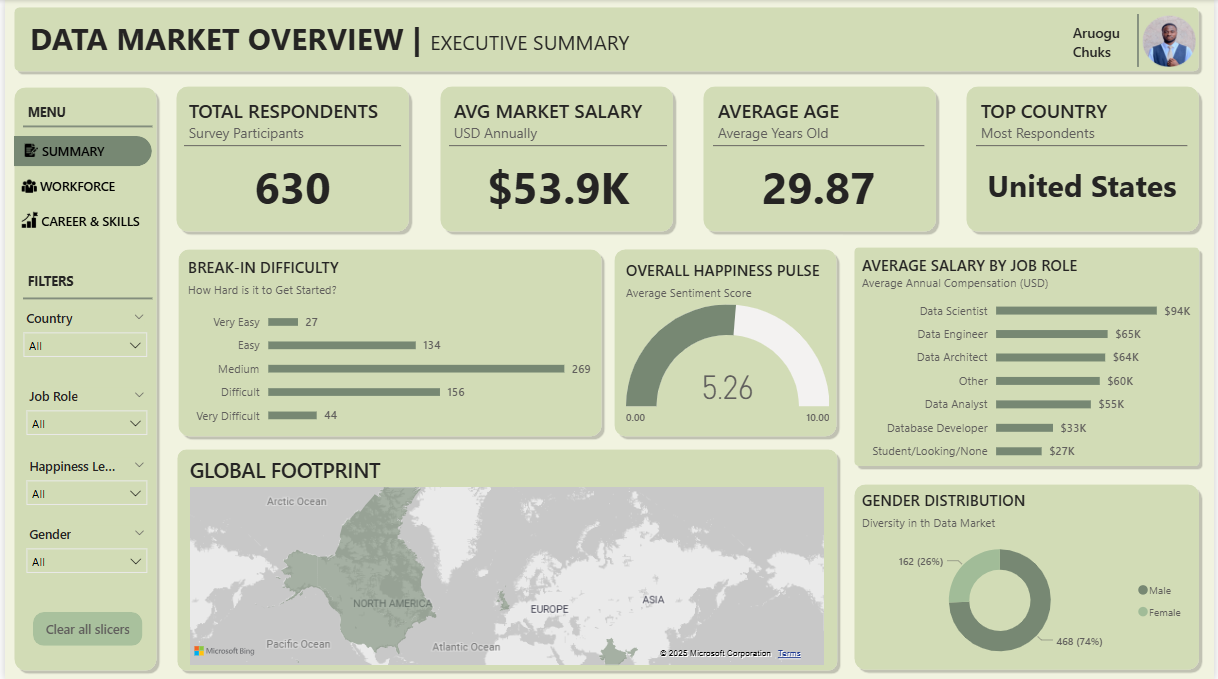

The dashboard page shown, as its layout file describes it:
{"tool":"powerbi","page":{"name":"EXECUTIVE SUMMARY","canvas":[1280,720],"ordinal":0},"visuals":[{"type":"image","box":[12.4,219.3,27.4,27.4],"z":0,"group":"g1"},{"type":"shape","box":[176.4,470,710,245.5],"z":0},{"type":"image","box":[12.7,182.2,25.8,28.4],"z":1000,"group":"g1"},{"type":"shape","box":[640,257.9,246.4,209.3],"z":1000},{"type":"image","box":[15.6,147.4,24.2,24.5],"z":2000,"group":"g1"},{"type":"shape","box":[893.8,507.5,376.2,207.5],"z":2000},{"type":"shape","box":[177.9,257.9,459.3,209.3],"z":3000},{"type":"shape","box":[4.7,86.5,161.8,628.8],"z":4000},{"type":"shape","box":[4.7,2.4,1265.3,78.8],"z":5000},{"type":"shape","box":[176.2,86.2,257.5,165],"z":6000},{"type":"shape","box":[455,86.2,257.5,165],"z":7000},{"type":"shape","box":[733.8,86.2,257.5,165],"z":8000},{"type":"shape","box":[1012.5,86.2,257.5,165],"z":9000},{"type":"textbox","box":[12.4,12.4,998.8,61.2],"z":10000},{"type":"textbox","box":[18.8,105,131.2,32.5],"z":11000},{"type":"shape","box":[18.9,117.4,137.4,32.6],"z":12000},{"type":"shape","box":[1186.2,15,27.5,56.2],"z":13000},{"type":"textbox","box":[18.8,284.2,131.1,32.1],"z":14000},{"type":"shape","box":[18.9,300,137.4,32.6],"z":15000},{"type":"textbox","box":[1125.9,19.3,71.9,53.9],"z":16000},{"type":"actionButton","box":[29.2,647.5,115.8,35.8],"z":17000},{"type":"card","title":"TOTAL RESPONDENTS","fields":{"Values":["Count(Data Professional Survey.Unique ID)"]},"box":[190,102.5,230,136.2],"z":18000},{"type":"card","title":"AVG MARKET SALARY","fields":{"Values":["Avg(Data Professional Survey.Average Salary ($))"]},"box":[470,102.5,231.2,136.2],"z":19000},{"type":"card","title":"AVERAGE AGE","fields":{"Values":["Avg(Data Professional Survey.Q10 - Current Age)"]},"box":[750,102.5,223.8,136.2],"z":20000},{"type":"card","title":"TOP COUNTRY","fields":{"Values":["Data Professional Survey.Top Country Name"]},"box":[1028.4,102.2,224.1,136.2],"z":21000},{"type":"slicer","fields":{"Values":["Data Professional Survey.Q11 - Which Country do you live in?"]},"box":[9.9,323,150.5,61.5],"z":22000},{"type":"slicer","fields":{"Values":["Data Professional Survey.Q1 - Which Title Best Fits your Current Role?"]},"box":[12.4,405.6,147.6,74.4],"z":23000},{"type":"slicer","fields":{"Values":["Happiness Table.Happiness_Levels"]},"box":[12.4,480,147.6,62],"z":24000},{"type":"shape","box":[10,144,146,32],"z":25000},{"type":"actionButton","box":[29,147,87,24],"z":26000},{"type":"actionButton","box":[31.8,184.5,90,23.6],"z":27000},{"type":"actionButton","box":[29.4,221.2,121.8,24.1],"z":28000},{"type":"shape","box":[893.6,255.7,376.4,242.9],"z":29000},{"type":"barChart","title":"AVERAGE SALARY BY JOB ROLE","fields":{"Y":["Avg(Data Professional Survey.Average Salary ($))"],"Category":["Data Professional Survey.Q1 - Which Title Best Fits your Current Role?"]},"box":[907.1,264.3,355.7,230],"z":30000},{"type":"barChart","title":"BREAK-IN DIFFICULTY","fields":{"Category":["Data Professional Survey.Q7 - How difficult was it for you to break into Data?"],"Y":["CountNonNull(Data Professional Survey.Q7 - How difficult was it for you to break into Data?)"]},"box":[194.3,269.3,427.1,187.9],"z":31000},{"type":"donutChart","title":"GENDER DISTRIBUTION","fields":{"Category":["Data Professional Survey.Q9 - Male/Female?"],"Y":["CountNonNull(Data Professional Survey.Q9 - Male/Female?)"]},"box":[907.8,519.1,346.9,188.6],"z":32000},{"type":"gauge","title":"OVERALL HAPPINESS PULSE","fields":{"Y":["Avg(Happiness Table.Score)"]},"box":[657.3,275.5,215.5,181.8],"z":33000},{"type":"filledMap","title":"GLOBAL FOOTPRINT","fields":{"Category":["Data Professional Survey.Q11 - Which Country do you live in?"]},"box":[190.1,482.3,682.3,226.3],"z":34000},{"type":"group","id":"g1","title":"Group 1","box":[12.4,147.4,27.4,99.4],"z":35000},{"type":"image","box":[1200,10.6,65.6,65],"z":36000},{"type":"slicer","fields":{"Values":["Data Professional Survey.Q9 - Male/Female?"]},"box":[12.9,552.1,147.9,66.4],"z":37000}]}

Visuals, with their boxes in screenshot pixels (x1, y1, x2, y2), scaled from the page's 1280x720 canvas onto the 1218x679 screenshot:
image: 12, 207, 38, 233
shape: 168, 443, 843, 675
image: 12, 172, 37, 199
shape: 609, 243, 843, 441
image: 15, 139, 38, 162
shape: 851, 479, 1208, 674
shape: 169, 243, 606, 441
shape: 4, 82, 158, 675
shape: 4, 2, 1208, 77
shape: 168, 81, 413, 237
shape: 433, 81, 678, 237
shape: 698, 81, 943, 237
shape: 963, 81, 1208, 237
textbox: 12, 12, 962, 69
textbox: 18, 99, 143, 130
shape: 18, 111, 149, 141
shape: 1129, 14, 1155, 67
textbox: 18, 268, 143, 298
shape: 18, 283, 149, 314
textbox: 1071, 18, 1140, 69
actionButton: 28, 611, 138, 644
"TOTAL RESPONDENTS" card: 181, 97, 400, 225
"AVG MARKET SALARY" card: 447, 97, 667, 225
"AVERAGE AGE" card: 714, 97, 927, 225
"TOP COUNTRY" card: 979, 96, 1192, 225
slicer - Data Professional Survey.Q11 - Which Country do you live in?: 9, 305, 153, 363
slicer - Data Professional Survey.Q1 - Which Title Best Fits your Current Role?: 12, 383, 152, 453
slicer - Happiness Table.Happiness_Levels: 12, 453, 152, 511
shape: 10, 136, 148, 166
actionButton: 28, 139, 110, 161
actionButton: 30, 174, 116, 196
actionButton: 28, 209, 144, 231
shape: 850, 241, 1208, 470
"AVERAGE SALARY BY JOB ROLE" barChart: 863, 249, 1202, 466
"BREAK-IN DIFFICULTY" barChart: 185, 254, 591, 431
"GENDER DISTRIBUTION" donutChart: 864, 490, 1194, 667
"OVERALL HAPPINESS PULSE" gauge: 625, 260, 831, 431
"GLOBAL FOOTPRINT" filledMap: 181, 455, 830, 668
"Group 1" group: 12, 139, 38, 233
image: 1142, 10, 1204, 71
slicer - Data Professional Survey.Q9 - Male/Female?: 12, 521, 153, 583
